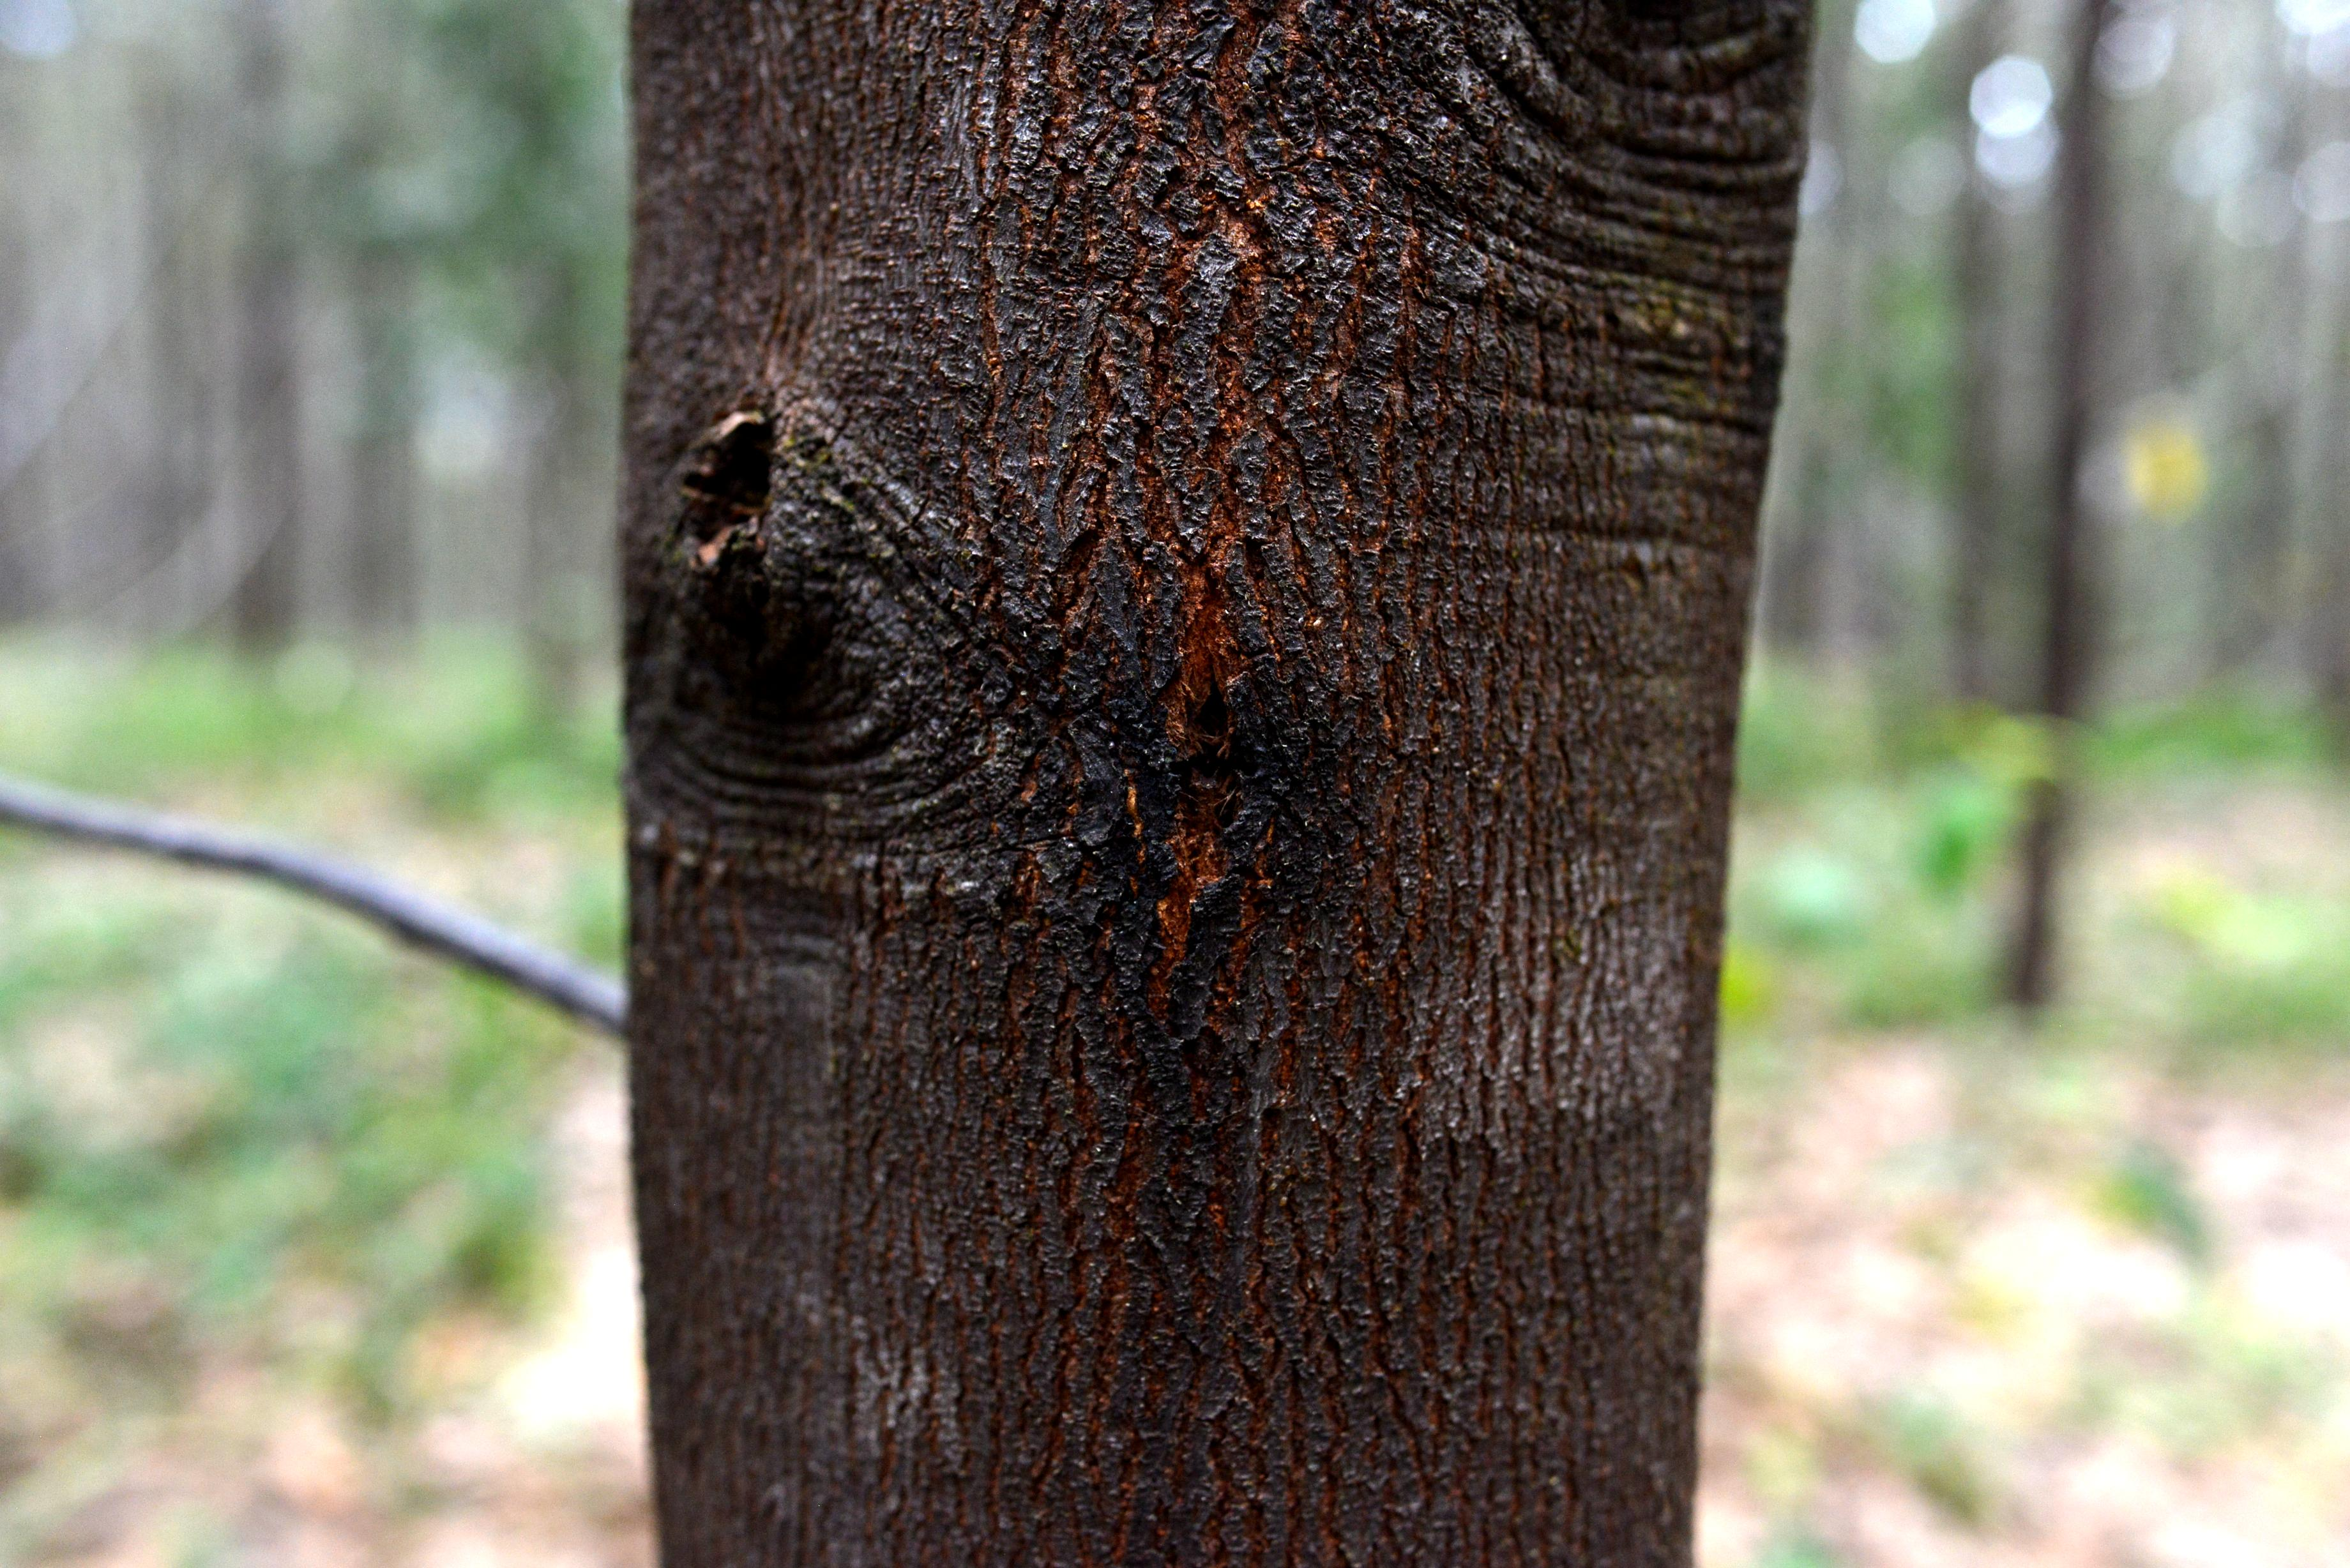Stem Borer: (996, 401, 1451, 1237), (658, 371, 875, 773)
